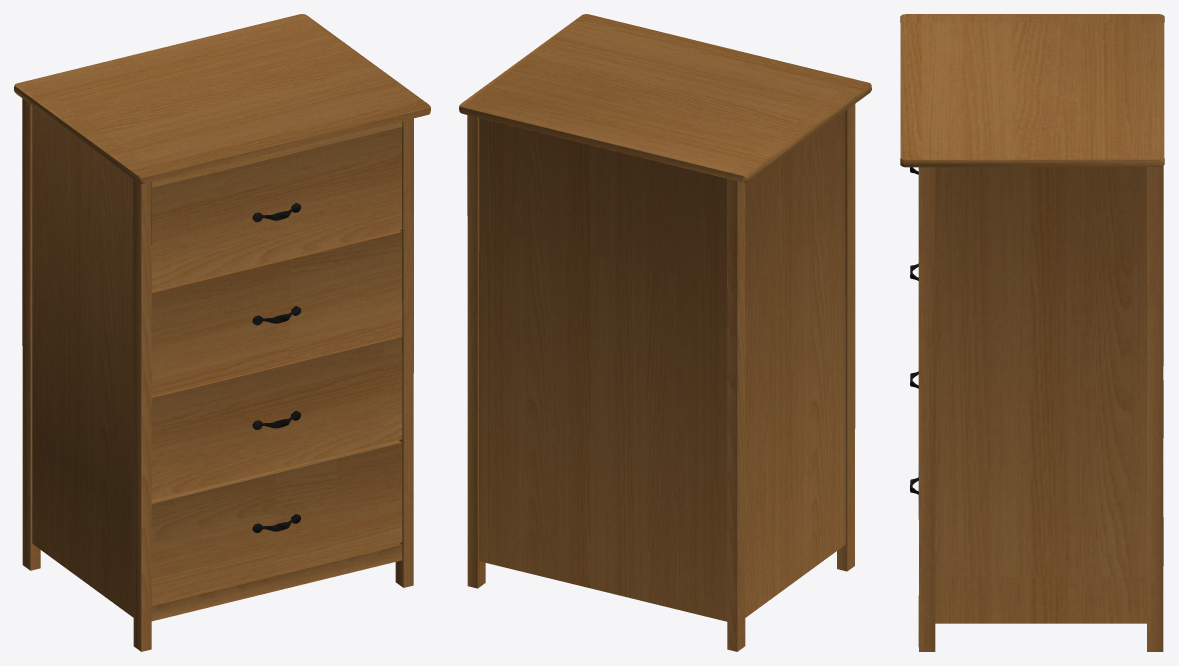
File: FileCabinet.fbx
3 renders of one model, left to right at view 1: azimuth 30°, elevation 25°; view 2: azimuth 150°, elevation 25°; view 3: azimuth 270°, elevation 25°, orthographic. The views are drawn at different scales.
Parts seen in each view (by area): view 1: cabinet-cabinet_4_drawer; view 2: cabinet-cabinet_4_drawer; view 3: cabinet-cabinet_4_drawer.
Part boxes in pixels (<box>): cabinet-cabinet_4_drawer: <box>14,14,430,651</box>; cabinet-cabinet_4_drawer: <box>459,14,871,651</box>; cabinet-cabinet_4_drawer: <box>900,14,1164,651</box>.
Size of the model in its own units: 0.7603 by 1.2 by 0.5782.
1 material, 1 textured.
